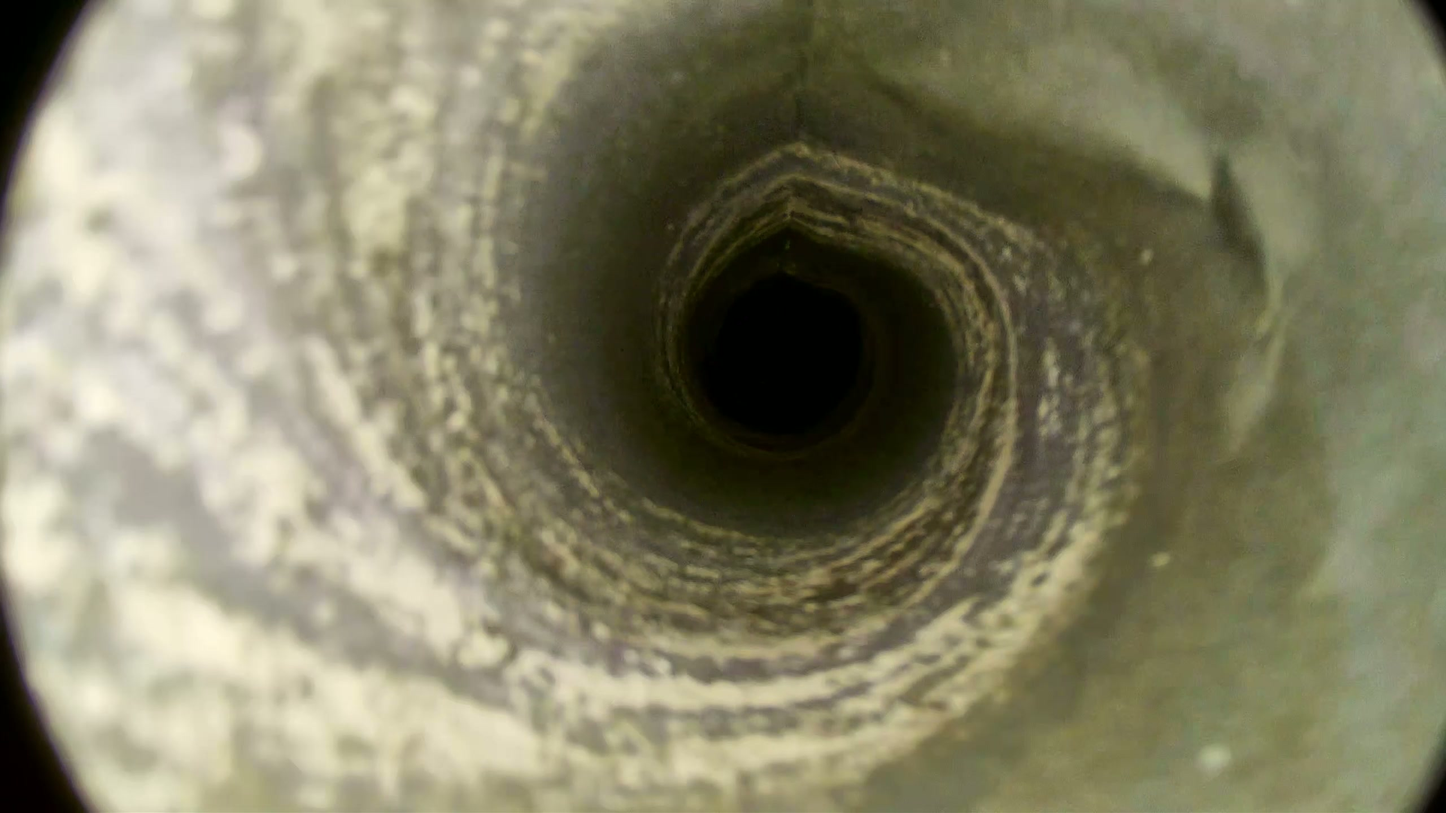hole: (714, 278, 860, 433)
